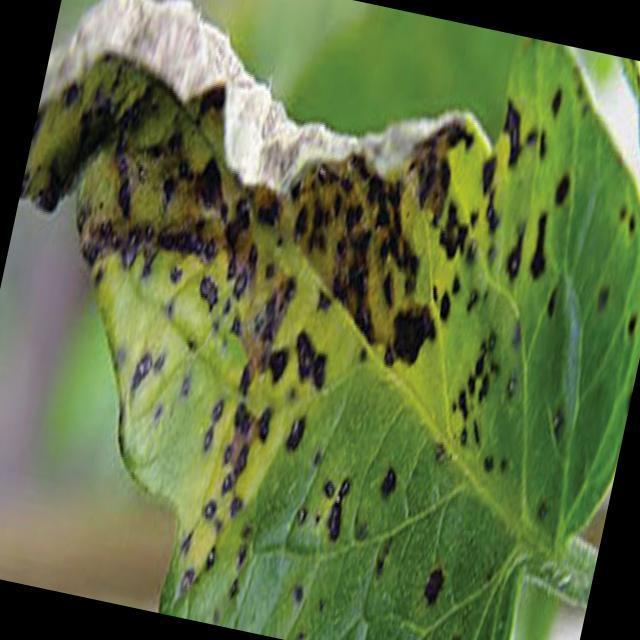Septoria: (2, 16, 640, 640)
